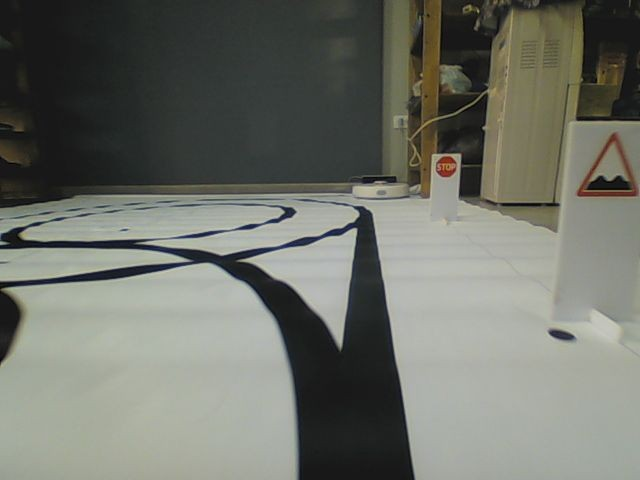Stop: (433, 154, 457, 180)
